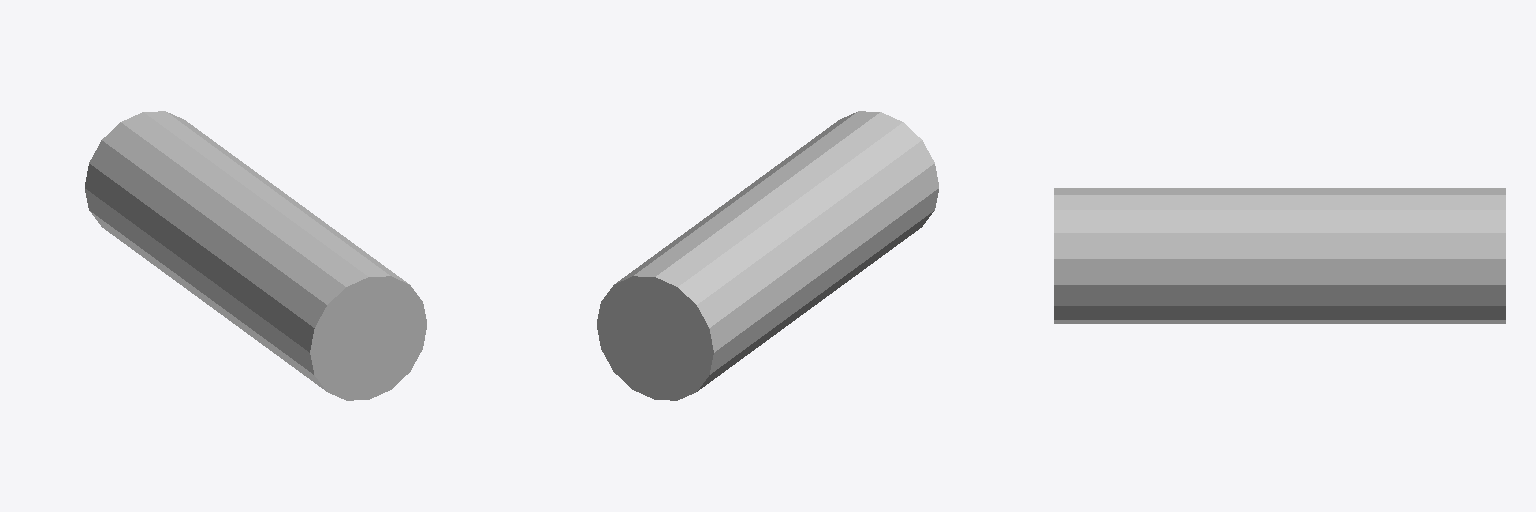
File: Plain_cable.obj
3 renders of one model, left to right at view 1: azimuth 30°, elevation 25°; view 2: azimuth 150°, elevation 25°; view 3: azimuth 270°, elevation 25°, orthographic.
Visible parts, largest first — view 1: Cylinder; view 2: Cylinder; view 3: Cylinder.
Boxes of the visible parts, box(x1,y1,x2,y2) form: Cylinder: box(85, 111, 426, 400); Cylinder: box(597, 111, 938, 400); Cylinder: box(1054, 188, 1505, 323).
Size of the model in its own units: 0.4512 by 0.4512 by 1.5.